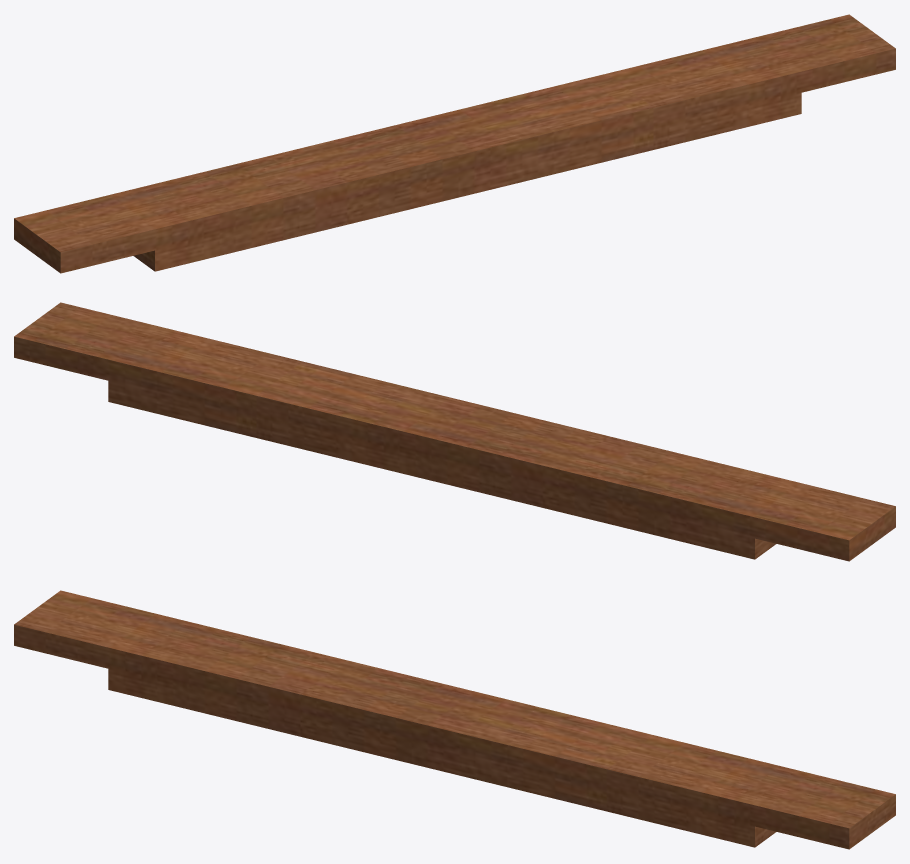
File: original-42.obj
3 views of the same model, one above another, from view 1: azimuth 30°, elevation 25°; view 2: azimuth 150°, elevation 25°; view 3: azimuth 330°, elevation 25° (orthographic).
Visible parts, largest first — view 1: top_support_frame-rail1/top_support_frame-rail/mesh75/mesh75-geo; view 2: top_support_frame-rail1/top_support_frame-rail/mesh75/mesh75-geo; view 3: top_support_frame-rail1/top_support_frame-rail/mesh75/mesh75-geo.
Boxes of the visible parts, left/top/right/bottom form: top_support_frame-rail1/top_support_frame-rail/mesh75/mesh75-geo: left=14, top=14, right=895, bottom=273; top_support_frame-rail1/top_support_frame-rail/mesh75/mesh75-geo: left=14, top=302, right=895, bottom=561; top_support_frame-rail1/top_support_frame-rail/mesh75/mesh75-geo: left=14, top=590, right=895, bottom=849.
Bounding box in the file's own units: 0.8132 × 0.0394 × 0.0787.
1 material, 1 textured.
